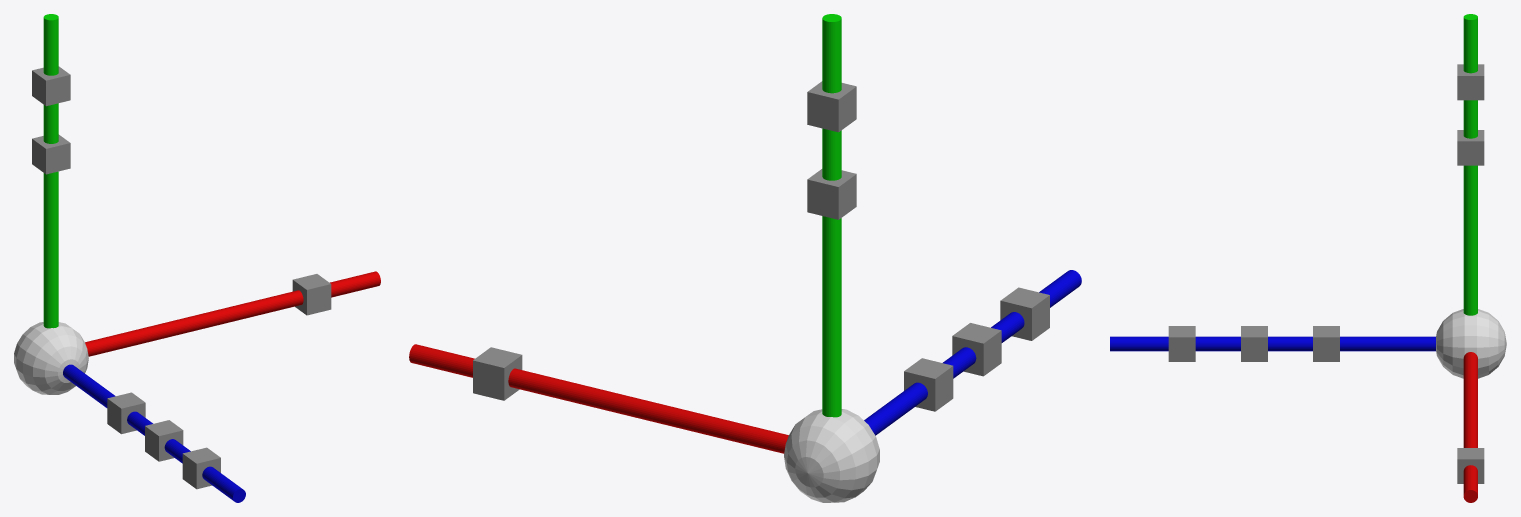
The model's file is boxes.glb.
3 views of the same model, side by side, from view 1: azimuth 30°, elevation 25°; view 2: azimuth 150°, elevation 25°; view 3: azimuth 270°, elevation 25° (orthographic). The views are drawn at different scales.
Parts seen in each view (by area): view 1: world; view 2: world; view 3: world.
Part boxes in pixels (bbox=[...]): world: bbox=[14, 14, 380, 502]; world: bbox=[409, 14, 1081, 502]; world: bbox=[1110, 14, 1506, 502].
Size of the model in its own units: 10.97 by 10.98 by 11.
